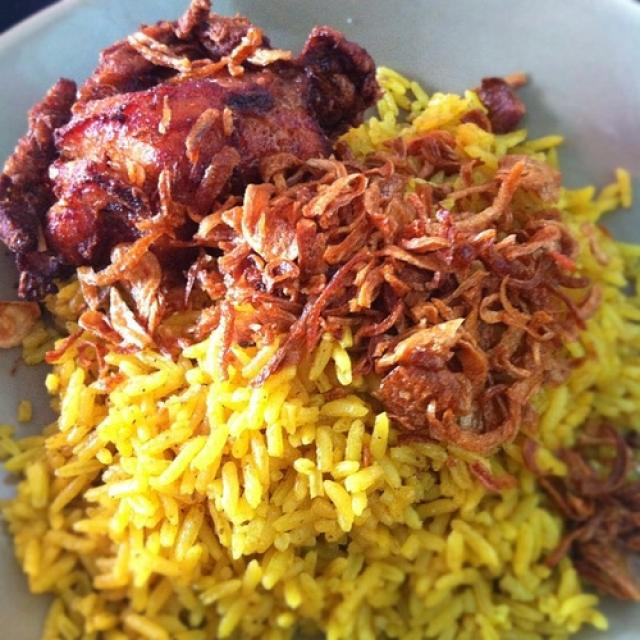米饭主食: (16, 23, 610, 629)
